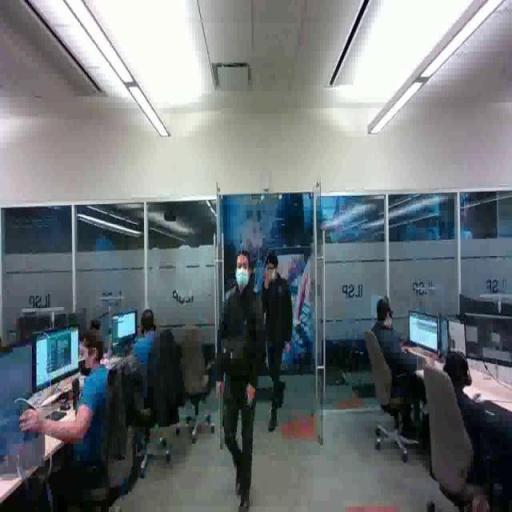person: (15, 330, 121, 499), (206, 248, 273, 507), (426, 337, 512, 498), (370, 295, 444, 441), (117, 303, 182, 437), (260, 256, 297, 433)
